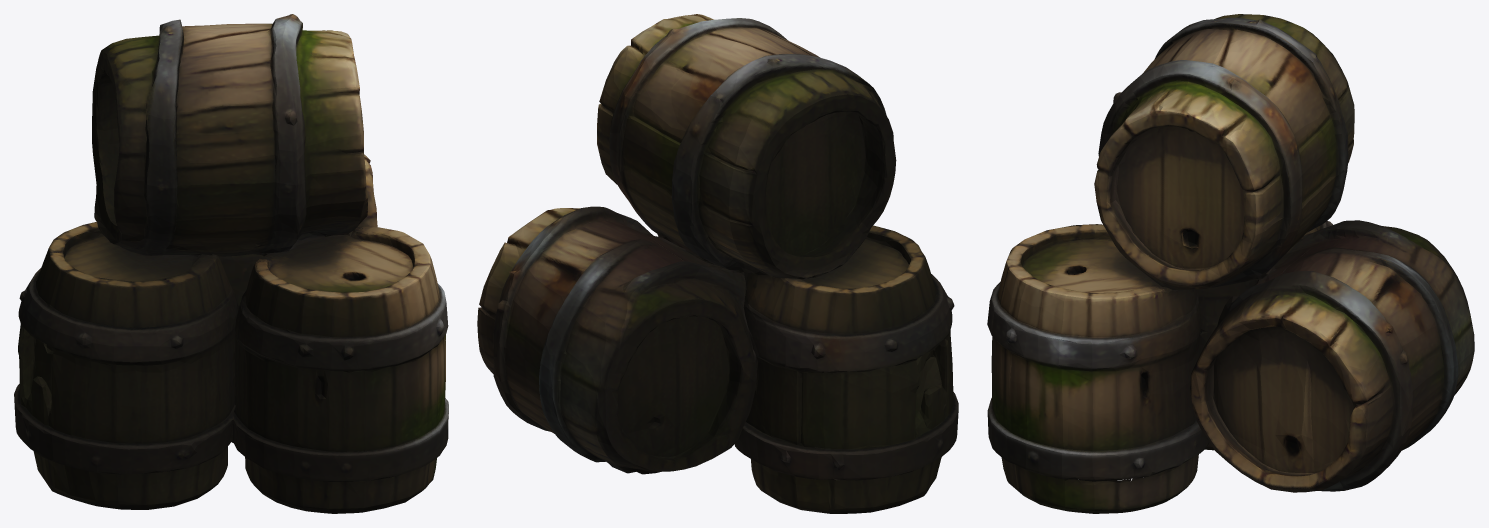
File: barrels_stack.glb
3 views of the same model, side by side, from view 1: azimuth 30°, elevation 25°; view 2: azimuth 150°, elevation 25°; view 3: azimuth 270°, elevation 25° (orthographic).
Parts seen in each view (by area): view 1: world; view 2: world; view 3: world.
Boxes of the visible parts, left/top/right/bottom form: world: left=14, top=14, right=448, bottom=513; world: left=477, top=14, right=958, bottom=513; world: left=987, top=14, right=1474, bottom=513.
Size of the model in its own units: 0.5773 by 0.5857 by 0.6156.
1 material, 1 textured.
